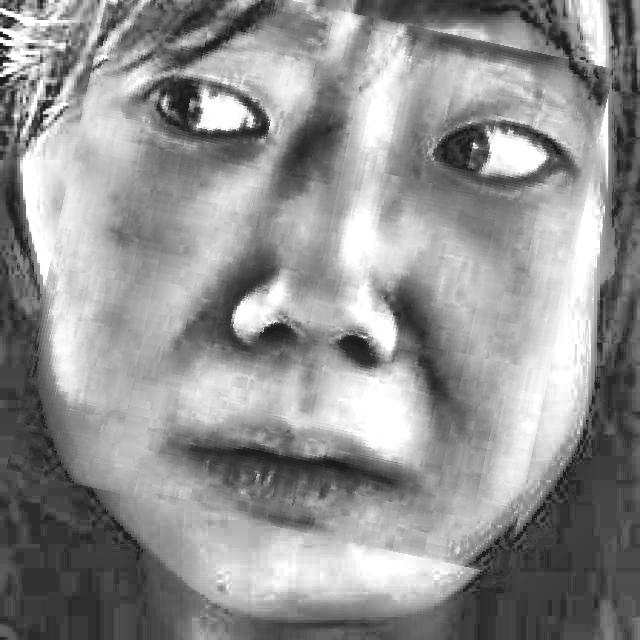fear: (30, 0, 589, 551)
